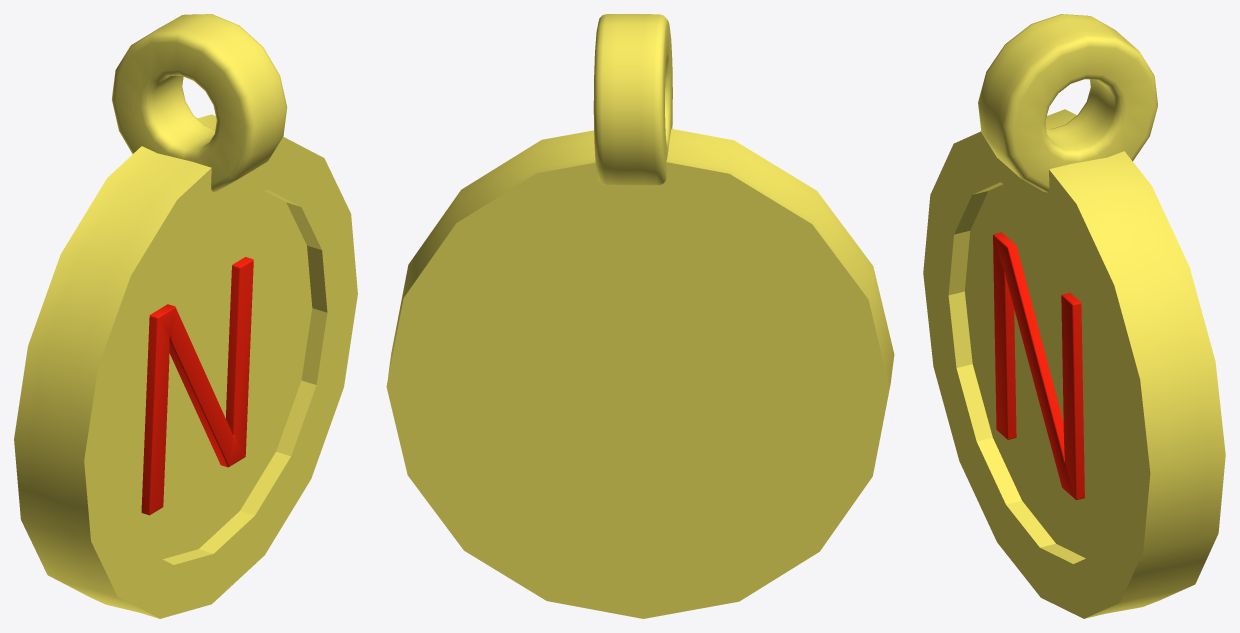
The picture shows the model from 3 angles, left to right: view 1: azimuth 30°, elevation 25°; view 2: azimuth 150°, elevation 25°; view 3: azimuth 270°, elevation 25°; orthographic projection.
Parts seen in each view (by area): view 1: Cylinder.009, Tube.009, N_2.009; view 2: Cylinder.009, Tube.009; view 3: Cylinder.009, Tube.009, N_2.009.
Boxes of the visible parts, <box> form: Cylinder.009: <box>14,114,357,618</box>; Tube.009: <box>111,14,287,191</box>; N_2.009: <box>141,257,253,515</box>; Cylinder.009: <box>386,128,894,618</box>; Tube.009: <box>593,14,672,185</box>; Cylinder.009: <box>923,109,1225,618</box>; Tube.009: <box>978,14,1157,192</box>; N_2.009: <box>993,232,1084,499</box>.
Bounding box in the file's own units: 16.88 × 10.48 × 21.94.
